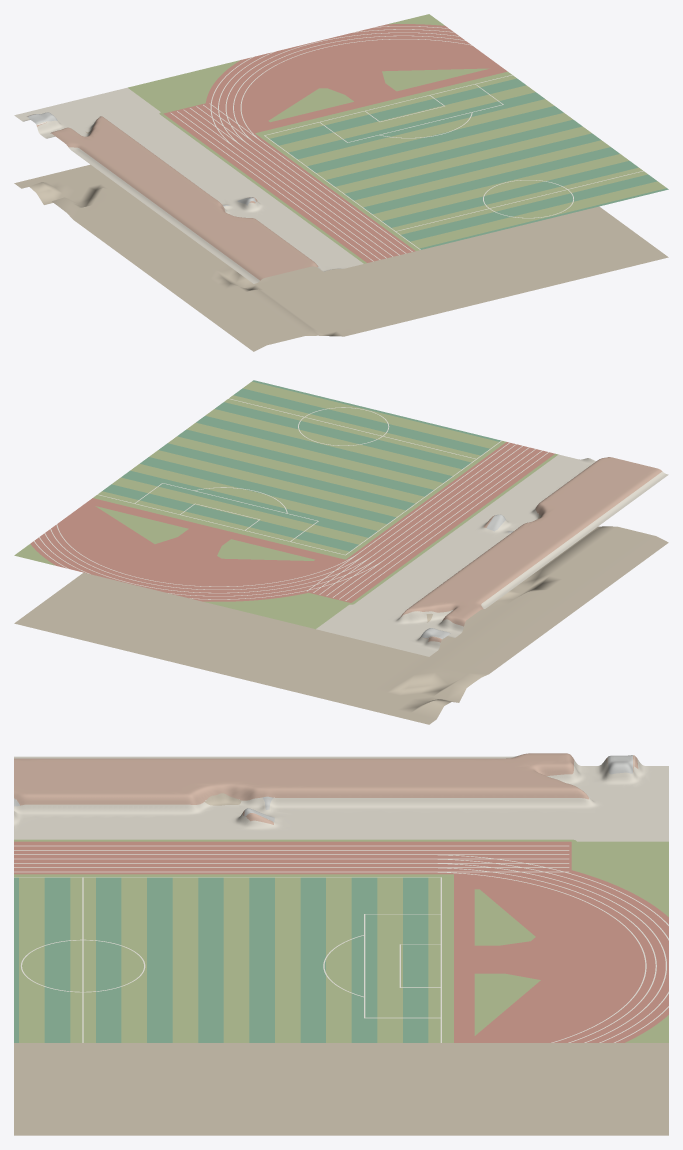
3 renders of one model, top to bottom at view 1: azimuth 30°, elevation 25°; view 2: azimuth 150°, elevation 25°; view 3: azimuth 270°, elevation 25°, orthographic. The views are drawn at different scales.
Parts seen in each view (by area): view 1: s_1_-5__soil, s_1_-5__grass, s_1_-5__red_court, s_1_-5__green_court, s_1_-5__paving, s_1_-5__brick_paving, s_1_-5__white_marking; view 2: s_1_-5__soil, s_1_-5__grass, s_1_-5__red_court, s_1_-5__green_court, s_1_-5__paving, s_1_-5__brick_paving, s_1_-5__white_marking; view 3: s_1_-5__soil, s_1_-5__grass, s_1_-5__red_court, s_1_-5__green_court, s_1_-5__paving, s_1_-5__brick_paving, s_1_-5__white_marking, s_1_-5__stone_paving.
Boxes of the visible parts, left/top/right/bottom form: s_1_-5__soil: left=14, top=131, right=668, bottom=351; s_1_-5__grass: left=128, top=14, right=666, bottom=263; s_1_-5__red_court: left=163, top=24, right=507, bottom=262; s_1_-5__green_court: left=270, top=78, right=668, bottom=249; s_1_-5__paving: left=14, top=87, right=363, bottom=283; s_1_-5__brick_paving: left=27, top=114, right=318, bottom=280; s_1_-5__white_marking: left=170, top=26, right=643, bottom=261; s_1_-5__soil: left=14, top=515, right=668, bottom=724; s_1_-5__grass: left=14, top=381, right=558, bottom=629; s_1_-5__red_court: left=30, top=442, right=554, bottom=602; s_1_-5__green_court: left=102, top=380, right=501, bottom=551; s_1_-5__paving: left=316, top=454, right=668, bottom=656; s_1_-5__brick_paving: left=400, top=457, right=662, bottom=642; s_1_-5__white_marking: left=34, top=398, right=548, bottom=600; s_1_-5__soil: left=14, top=793, right=668, bottom=1135; s_1_-5__grass: left=14, top=839, right=668, bottom=1042; s_1_-5__red_court: left=14, top=841, right=668, bottom=1042; s_1_-5__green_court: left=14, top=877, right=428, bottom=1042; s_1_-5__paving: left=14, top=755, right=668, bottom=841; s_1_-5__brick_paving: left=14, top=753, right=638, bottom=824; s_1_-5__white_marking: left=14, top=845, right=668, bottom=1042; s_1_-5__stone_paving: left=14, top=755, right=632, bottom=821.
Bounding box in the file's own units: 128 × 23.01 × 128.
